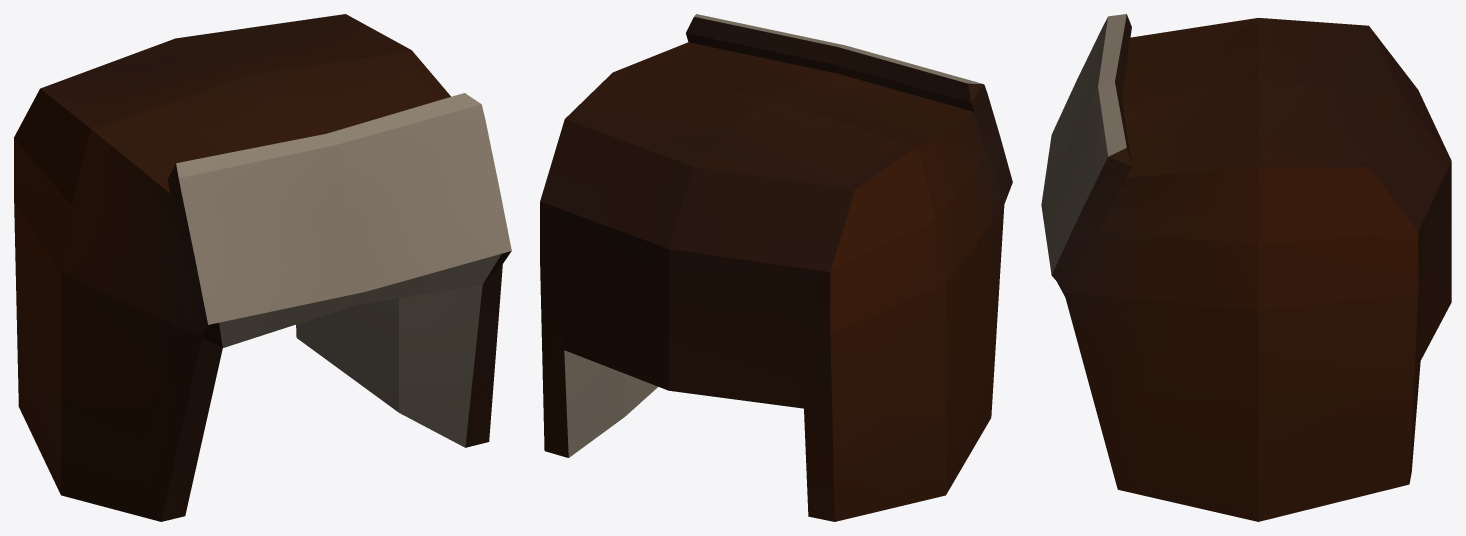
The model's file is ushanka.fbx.
The picture shows the model from 3 angles, left to right: view 1: azimuth 30°, elevation 25°; view 2: azimuth 150°, elevation 25°; view 3: azimuth 270°, elevation 25°; orthographic projection. The views are drawn at different scales.
Visible parts, largest first — view 1: ushanka; view 2: ushanka; view 3: ushanka.
Boxes of the visible parts, bbox=[...] form: ushanka: bbox=[14, 14, 511, 521]; ushanka: bbox=[540, 14, 1012, 521]; ushanka: bbox=[1041, 14, 1451, 521].
Bounding box in the file's own units: 28.79 × 27.07 × 28.32.
